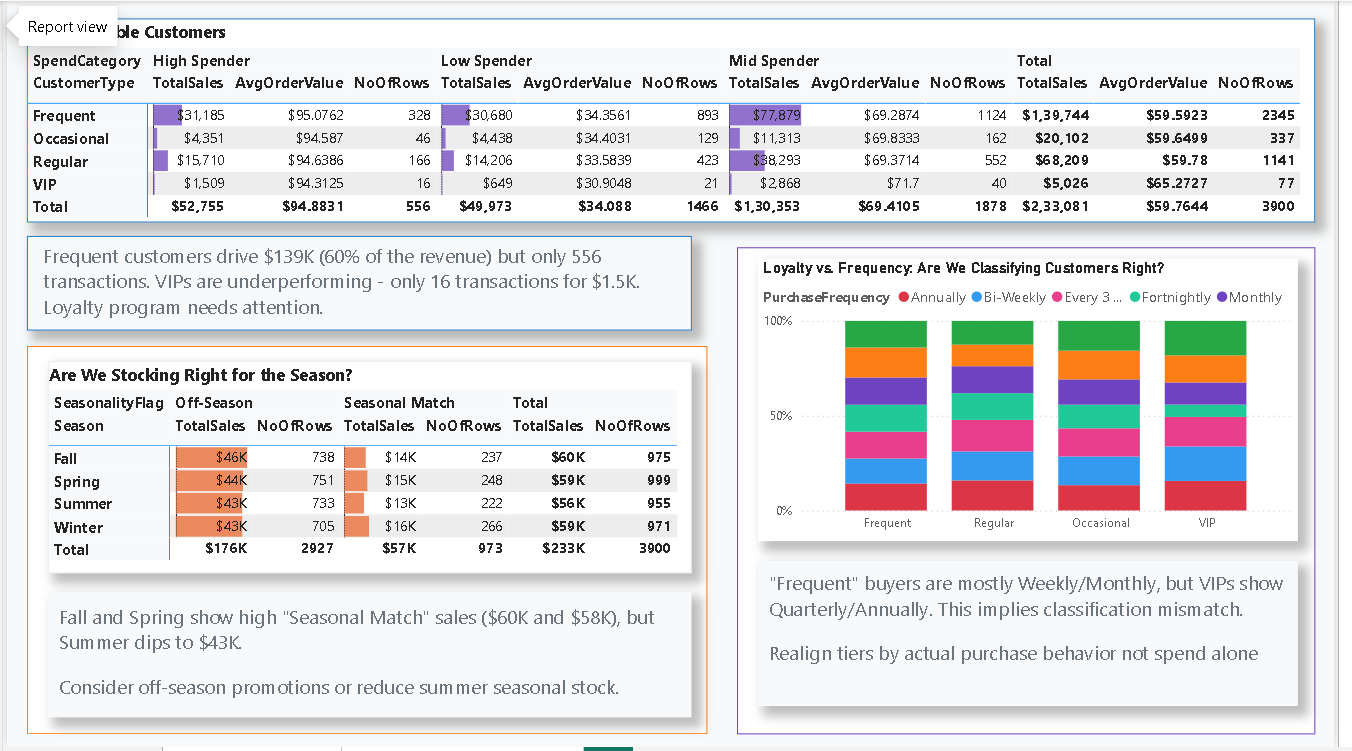

The page's visual inventory and layout, read from the dashboard file:
{"tool":"powerbi","page":{"name":"Customer & Season Analysis","canvas":[1280,720],"ordinal":1},"visuals":[{"type":"pivotTable","title":"Most Valuable Customers","fields":{"Columns":["customer_shopping_behavior.SpendCategory"],"Rows":["customer_shopping_behavior.CustomerType"],"Values":["_Measures.TotalSales","_Measures.AvgOrderValue","_Measures.NoOfRows"]},"box":[19.4,16.4,1243.3,197],"z":0},{"type":"shape","box":[704.5,237.3,558.2,470.1],"z":0,"group":"g2"},{"type":"shape","box":[19.4,332.8,656.7,374.6],"z":0,"group":"g1"},{"type":"textbox","box":[19.4,226.9,641.8,91],"z":1000},{"type":"hundredPercentStackedColumnChart","title":"Loyalty vs. Frequency: Are We Classifying Customers Right?","fields":{"Category":["customer_shopping_behavior.CustomerType"],"Series":["customer_shopping_behavior.PurchaseFrequency"],"Y":["_Measures.NoOfRows"]},"box":[725.4,247.7,520.9,273.1],"z":2000,"group":"g2"},{"type":"group","id":"g1","title":"Group 1","box":[19.4,332.8,656.7,374.6],"z":2000},{"type":"pivotTable","title":"Are We Stocking Right for the Season?","fields":{"Columns":["customer_shopping_behavior.SeasonalityFlag"],"Rows":["customer_shopping_behavior.Season"],"Values":["_Measures.TotalSales","_Measures.NoOfRows"]},"box":[40.3,347.7,620.9,204.5],"z":2000,"group":"g1"},{"type":"group","id":"g2","title":"Group 2","box":[704.5,237.3,558.2,470.1],"z":3000},{"type":"textbox","box":[725.4,540.3,520.9,140.3],"z":3000,"group":"g2"},{"type":"textbox","box":[40.3,570.1,620.9,120.9],"z":4000,"group":"g1"}]}

Visuals, with their boxes on the page's 1280x720 design canvas (x1, y1, x2, y2). These are canvas units, not pixel positions in the 1352x751 screenshot, which may show the page scaled, cropped or inside an application window:
"Most Valuable Customers" pivotTable: 19,16,1263,213
shape: 704,237,1263,707
shape: 19,333,676,707
textbox: 19,227,661,318
"Loyalty vs. Frequency: Are We Classifying Customers Right?" hundredPercentStackedColumnChart: 725,248,1246,521
"Group 1" group: 19,333,676,707
"Are We Stocking Right for the Season?" pivotTable: 40,348,661,552
"Group 2" group: 704,237,1263,707
textbox: 725,540,1246,681
textbox: 40,570,661,691
